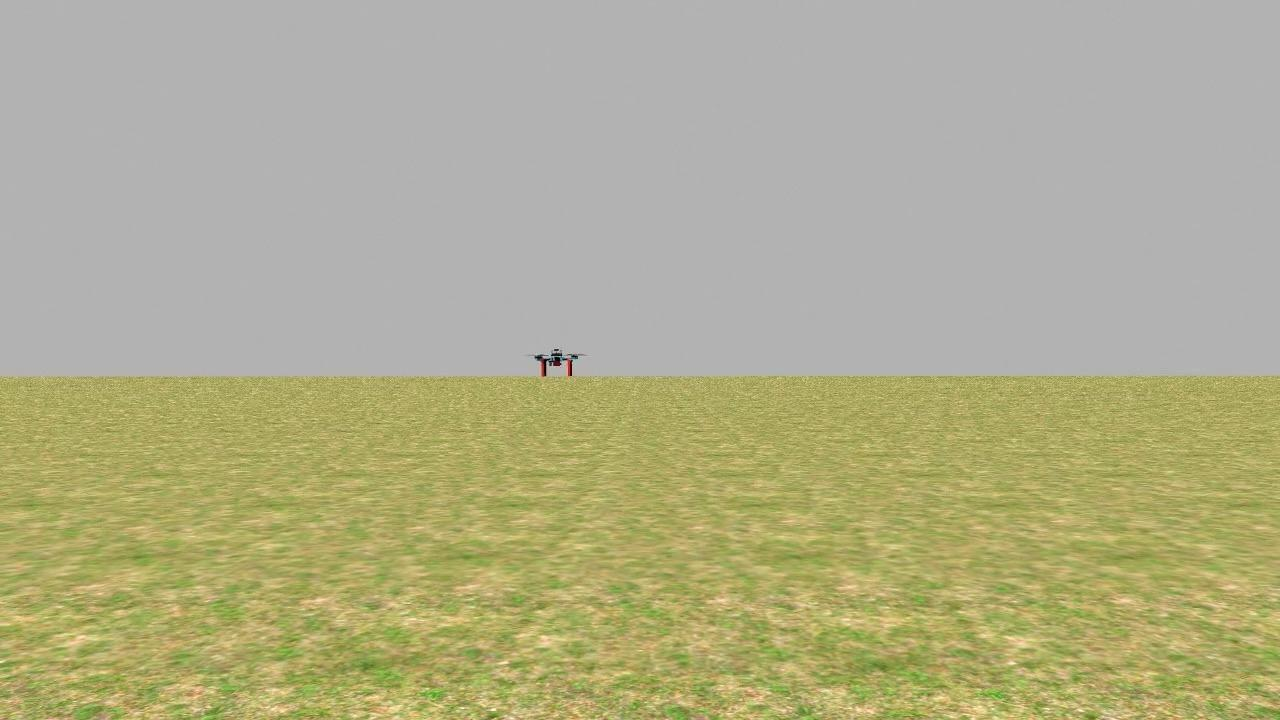UAV: (519, 339, 594, 385)
